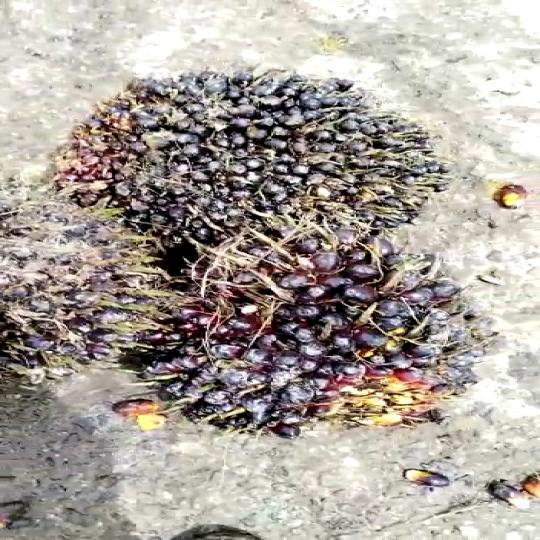mentah: (62, 58, 430, 250), (127, 246, 486, 441)
